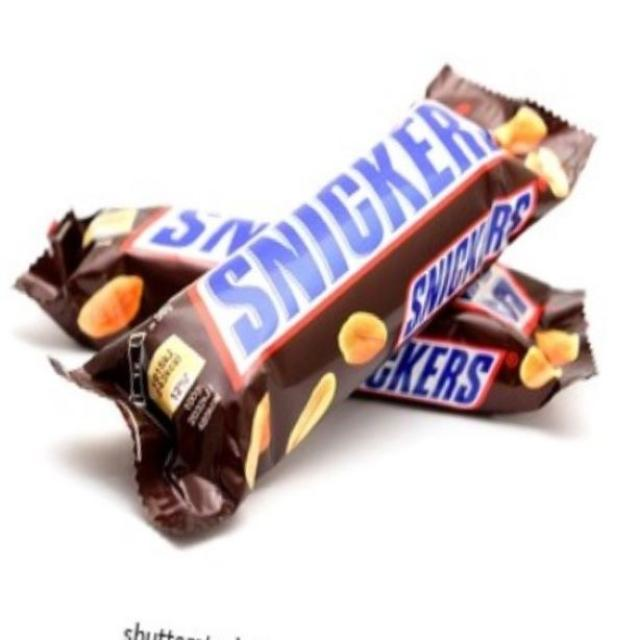snickers_chocolate: (163, 87, 520, 483), (85, 186, 589, 408)
